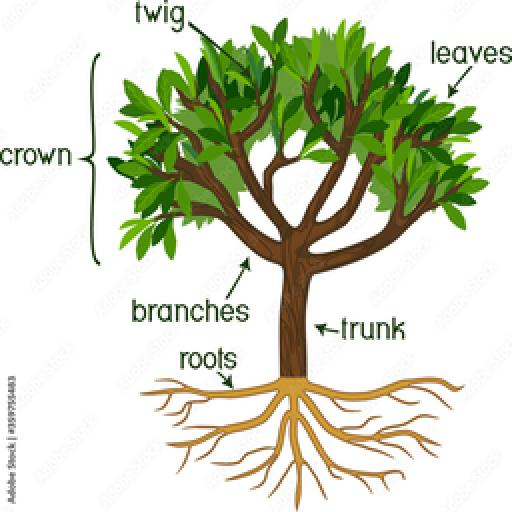trees: (117, 22, 489, 378)
